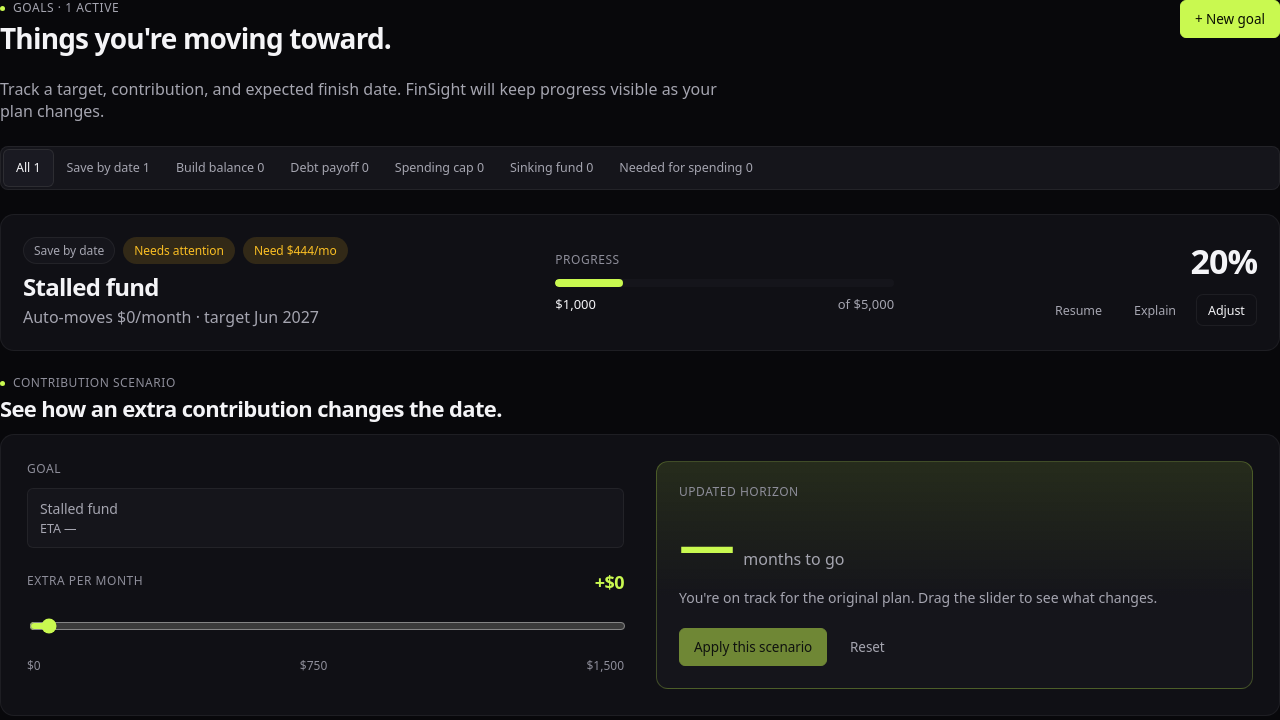
Test: Goals — what-if scenario › shows a 'newly achievable' message instead of '0 months saved' when the goal has no current monthly contribution
Set the slider named "Extra monthly contribution" to "500" at x=231, y=626, box [29,606,626,646]
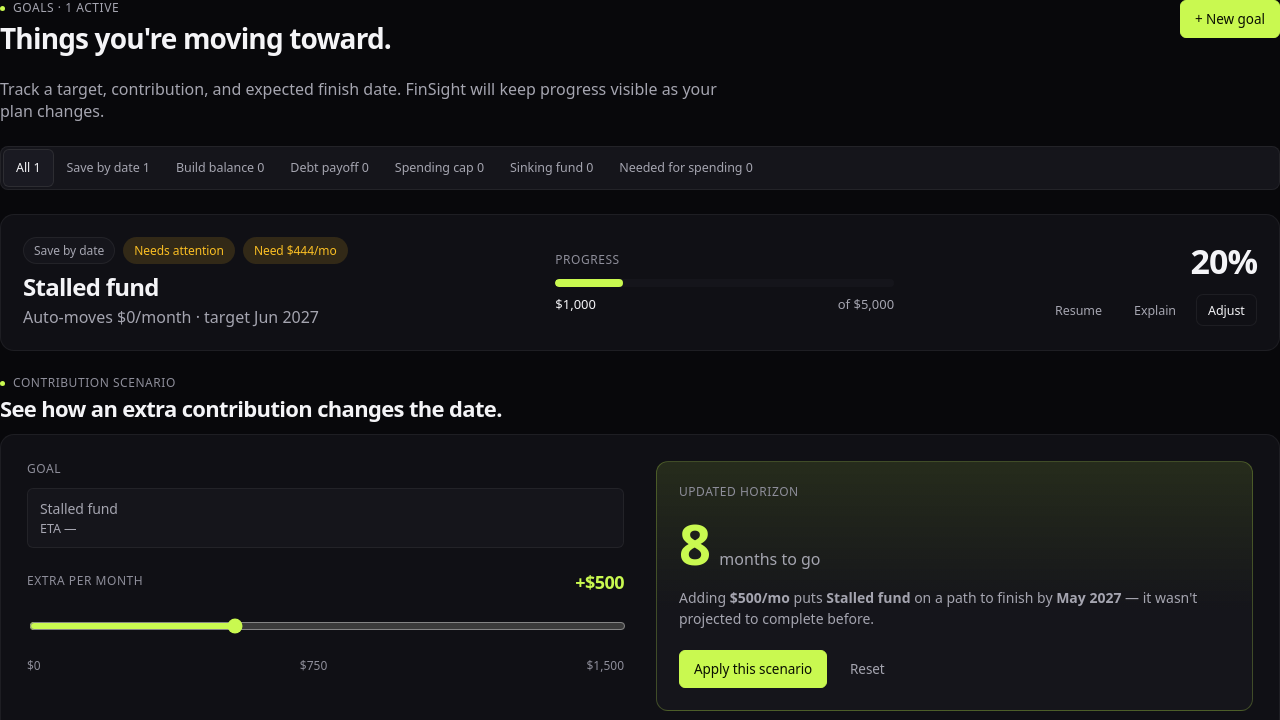
Now the text "on a path to finish by" is shown, box [910,588,1052,607]
Now the text "wasn't projected to complete before" is shown, box [679,588,1197,628]
